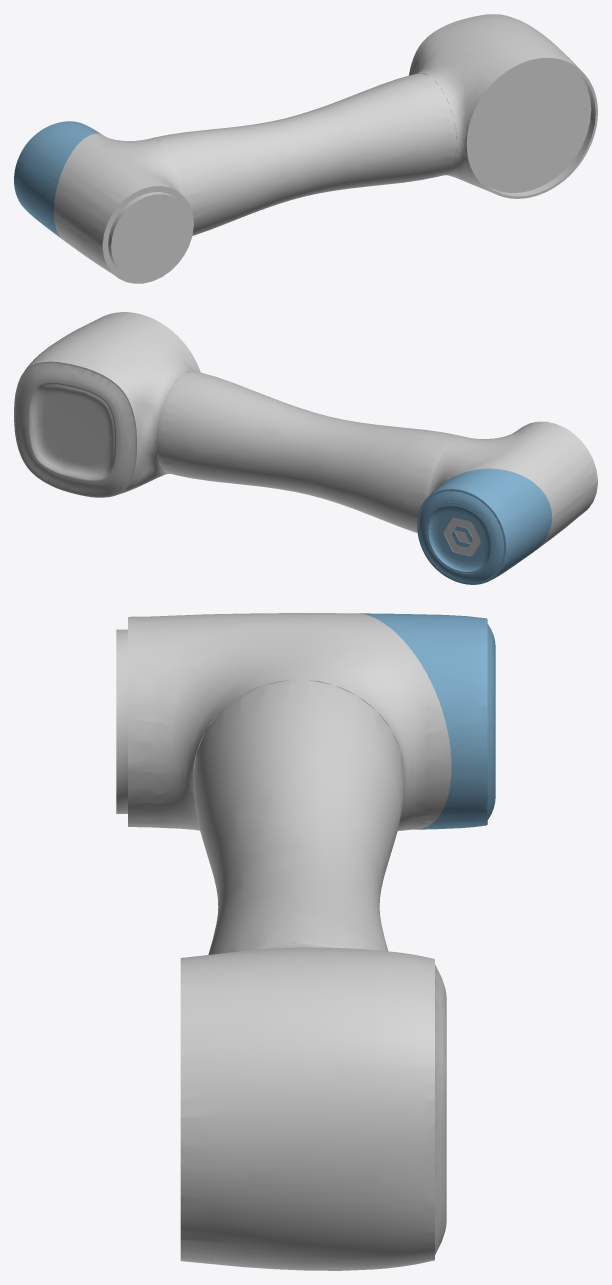
3 views of the same model, one above another, from view 1: azimuth 30°, elevation 25°; view 2: azimuth 150°, elevation 25°; view 3: azimuth 270°, elevation 25° (orthographic). The views are drawn at different scales.
Parts seen in each view (by area): view 1: Link3_001-mesh, Link3_003-mesh; view 2: Link3_001-mesh, Link3_003-mesh, Link3_003-mesh_1; view 3: Link3_001-mesh, Link3_003-mesh.
Boxes of the visible parts, left/top/right/bottom form: Link3_001-mesh: left=54, top=14, right=597, bottom=283; Link3_003-mesh: left=14, top=121, right=101, bottom=238; Link3_001-mesh: left=14, top=312, right=597, bottom=550; Link3_003-mesh: left=417, top=468, right=551, bottom=584; Link3_003-mesh_1: left=444, top=517, right=480, bottom=555; Link3_001-mesh: left=116, top=613, right=451, bottom=1270; Link3_003-mesh: left=359, top=613, right=495, bottom=829.
Size of the model in its own units: 0.4608 by 0.1228 by 0.1475.
